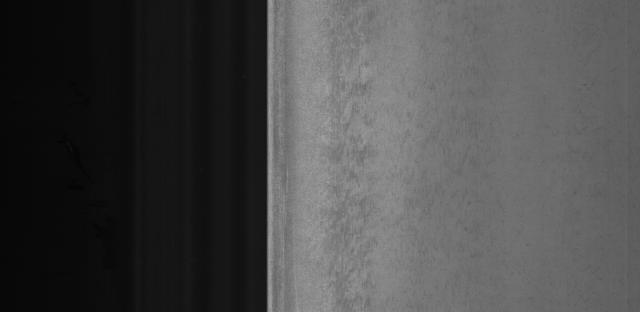silk_spot: (308, 38, 386, 312)
